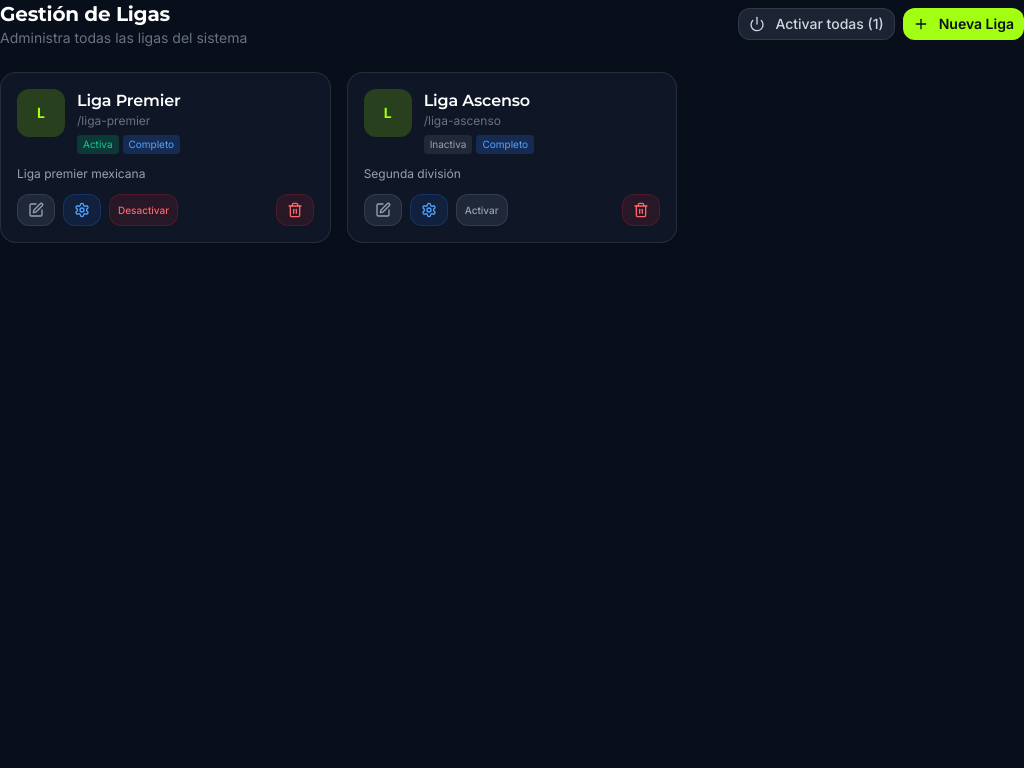
Test: Delete league › does not delete when the confirmation is cancelled
Expected: the heading "Liga Premier" is shown, [77, 91, 181, 110]
Click the button named "Eliminar Liga Premier" at coordinates (295, 210), box [276, 194, 314, 226]
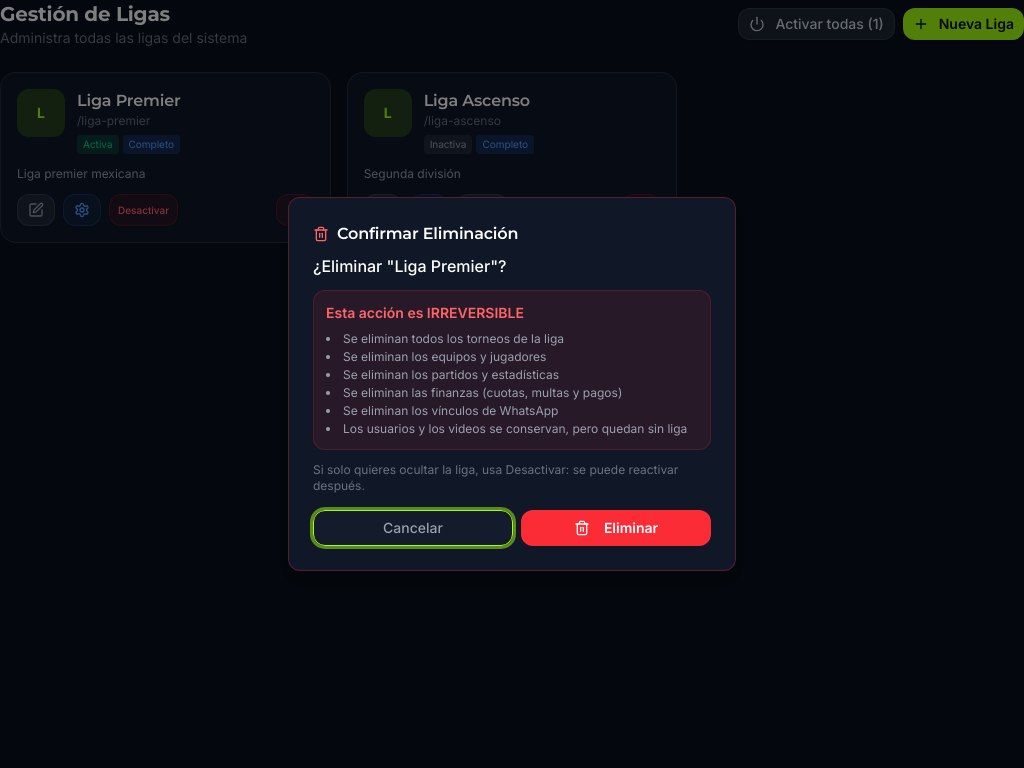
Click the button "Cancelar" at coordinates (413, 528), box [313, 510, 513, 546]
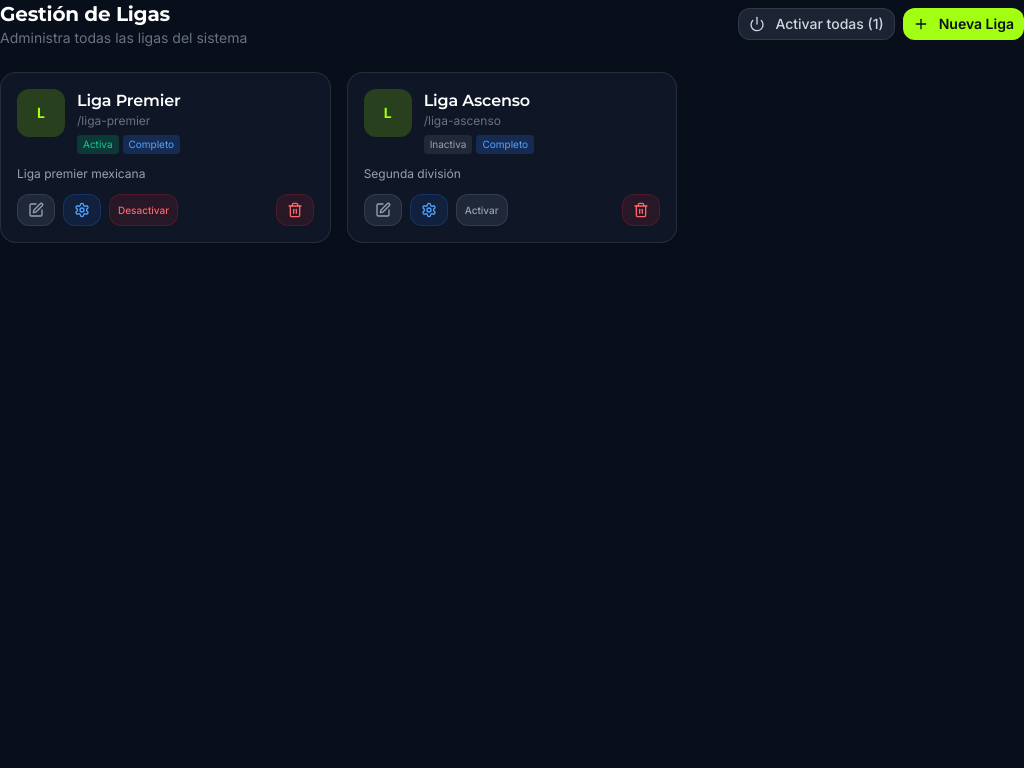
Now the dialog is gone
